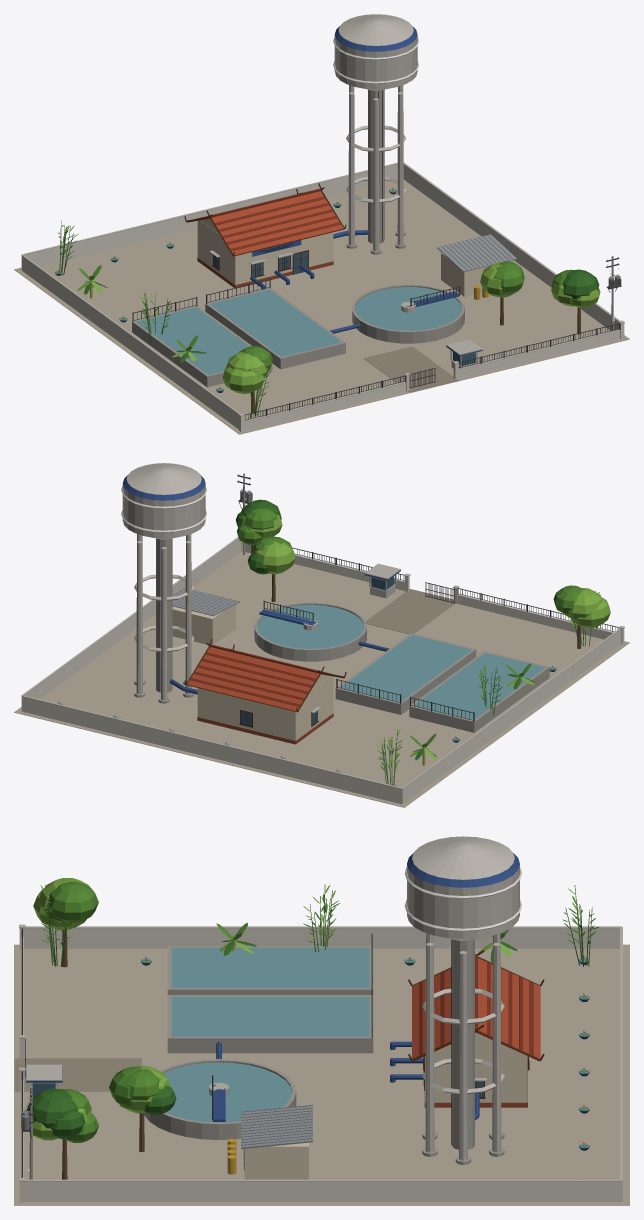
File: water_works.glb
3 renders of one model, top to bottom at view 1: azimuth 30°, elevation 25°; view 2: azimuth 150°, elevation 25°; view 3: azimuth 270°, elevation 25°, orthographic. The views are drawn at different scales.
Parts seen in each view (by area): view 1: body, windows; view 2: body; view 3: body.
Part boxes in pixels (<box>): body: <box>14,14,629,434</box>; windows: <box>213,251,475,365</box>; body: <box>14,463,629,807</box>; body: <box>14,836,629,1205</box>.
Size of the model in its own units: 47.9 by 25.84 by 47.9.
